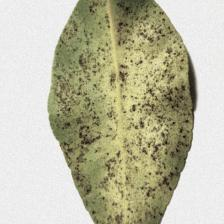canker: (60, 34, 184, 187)
